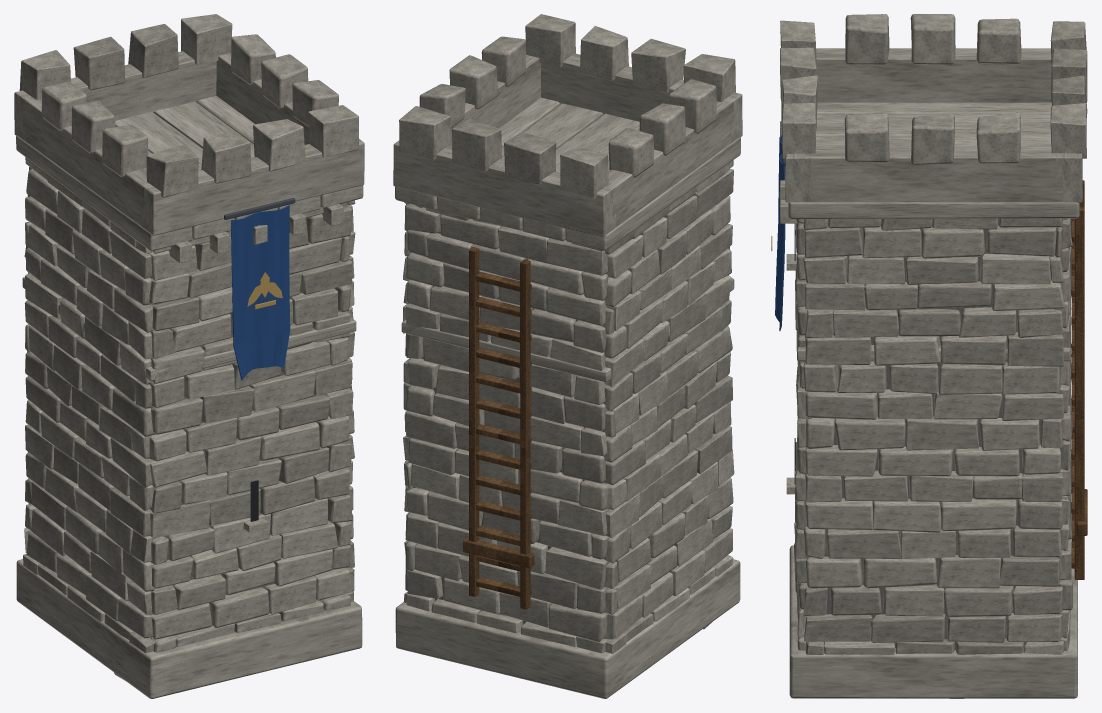
Rendered from watchtower-LOD1.glb.
3 renders of one model, left to right at view 1: azimuth 30°, elevation 25°; view 2: azimuth 150°, elevation 25°; view 3: azimuth 270°, elevation 25°, orthographic. The views are drawn at different scales.
Visible parts, largest first — view 1: V3 complete watchtower / Tower return crenel.011, V3 complete watchtower / Tower return ashlar.165, V3 complete watchtower / Tower waist stringcourse.001, V3 complete watchtower / Tower return ashlar.164, V3 complete watchtower / Tower return ashlar.157, V3 complete watchtower / Tower return ashlar.154, V3 complete watchtower / Tower return ashlar.159, V3 complete watchtower / Royal blue Valoria banner.001, V3 complete watchtower / Valoria lily embroidery.005; view 2: V3 complete watchtower / Tower return crenel.011, V3 complete watchtower / Tower return ashlar.157, V3 complete watchtower / Tower waist stringcourse.001, V3 complete watchtower / Tower return ashlar.165, V3 complete watchtower / Tower return ashlar.164, V3 complete watchtower / Tower return ashlar.154, V3 complete watchtower / Tower return ashlar.159, Tower rear oak access lintel; view 3: V3 complete watchtower / Tower return crenel.011, V3 complete watchtower / Tower waist stringcourse.001, V3 complete watchtower / Tower return ashlar.154, V3 complete watchtower / Tower return ashlar.157, V3 complete watchtower / Tower return ashlar.159, V3 complete watchtower / Tower return ashlar.164, V3 complete watchtower / Tower return ashlar.165, Tower rear oak access lintel, V3 complete watchtower / Tower structural core.001, V3 complete watchtower / Royal blue Valoria banner.001.
Boxes of the visible parts, x1=… form: V3 complete watchtower / Tower return crenel.011: x1=14, y1=34, x2=364, y2=652; V3 complete watchtower / Tower return ashlar.165: x1=25, y1=24, x2=354, y2=595; V3 complete watchtower / Tower waist stringcourse.001: x1=16, y1=96, x2=363, y2=698; V3 complete watchtower / Tower return ashlar.164: x1=24, y1=167, x2=354, y2=639; V3 complete watchtower / Tower return ashlar.157: x1=25, y1=14, x2=358, y2=680; V3 complete watchtower / Tower return ashlar.154: x1=25, y1=119, x2=353, y2=621; V3 complete watchtower / Tower return ashlar.159: x1=23, y1=157, x2=354, y2=652; V3 complete watchtower / Royal blue Valoria banner.001: x1=231, y1=205, x2=290, y2=380; V3 complete watchtower / Valoria lily embroidery.005: x1=247, y1=272, x2=282, y2=309; V3 complete watchtower / Tower return crenel.011: x1=393, y1=36, x2=742, y2=614; V3 complete watchtower / Tower return ashlar.157: x1=399, y1=14, x2=731, y2=653; V3 complete watchtower / Tower waist stringcourse.001: x1=395, y1=97, x2=740, y2=698; V3 complete watchtower / Tower return ashlar.165: x1=404, y1=118, x2=733, y2=641; V3 complete watchtower / Tower return ashlar.164: x1=403, y1=204, x2=732, y2=639; V3 complete watchtower / Tower return ashlar.154: x1=403, y1=26, x2=734, y2=621; V3 complete watchtower / Tower return ashlar.159: x1=403, y1=204, x2=733, y2=653; Tower rear oak access lintel: x1=463, y1=247, x2=534, y2=609; V3 complete watchtower / Tower return crenel.011: x1=780, y1=14, x2=1086, y2=654; V3 complete watchtower / Tower waist stringcourse.001: x1=779, y1=102, x2=1079, y2=698; V3 complete watchtower / Tower return ashlar.154: x1=781, y1=75, x2=1071, y2=636; V3 complete watchtower / Tower return ashlar.157: x1=782, y1=102, x2=1086, y2=654; V3 complete watchtower / Tower return ashlar.159: x1=794, y1=218, x2=1071, y2=638; V3 complete watchtower / Tower return ashlar.164: x1=794, y1=218, x2=1072, y2=698; V3 complete watchtower / Tower return ashlar.165: x1=795, y1=48, x2=1087, y2=654; Tower rear oak access lintel: x1=1071, y1=180, x2=1087, y2=579; V3 complete watchtower / Tower structural core.001: x1=824, y1=218, x2=1041, y2=647; V3 complete watchtower / Royal blue Valoria banner.001: x1=775, y1=134, x2=785, y2=330.
Bounding box in the file's own units: 3.25 × 7.64 × 3.8.
Materials: 13 (8 with a texture image).
